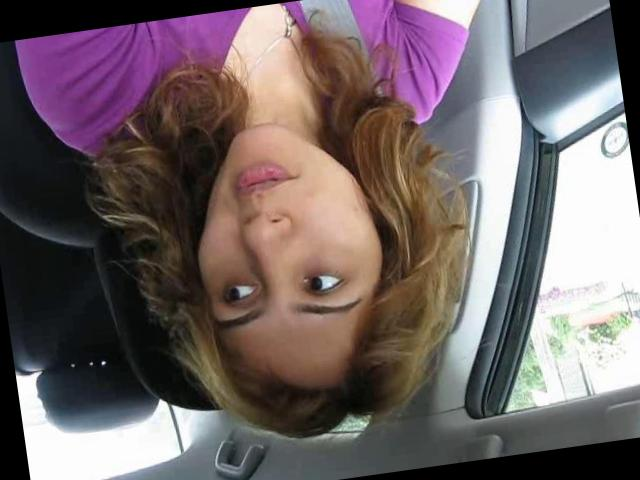eye_open: (294, 262, 351, 304), (214, 272, 262, 318)
face: (180, 106, 393, 355)
